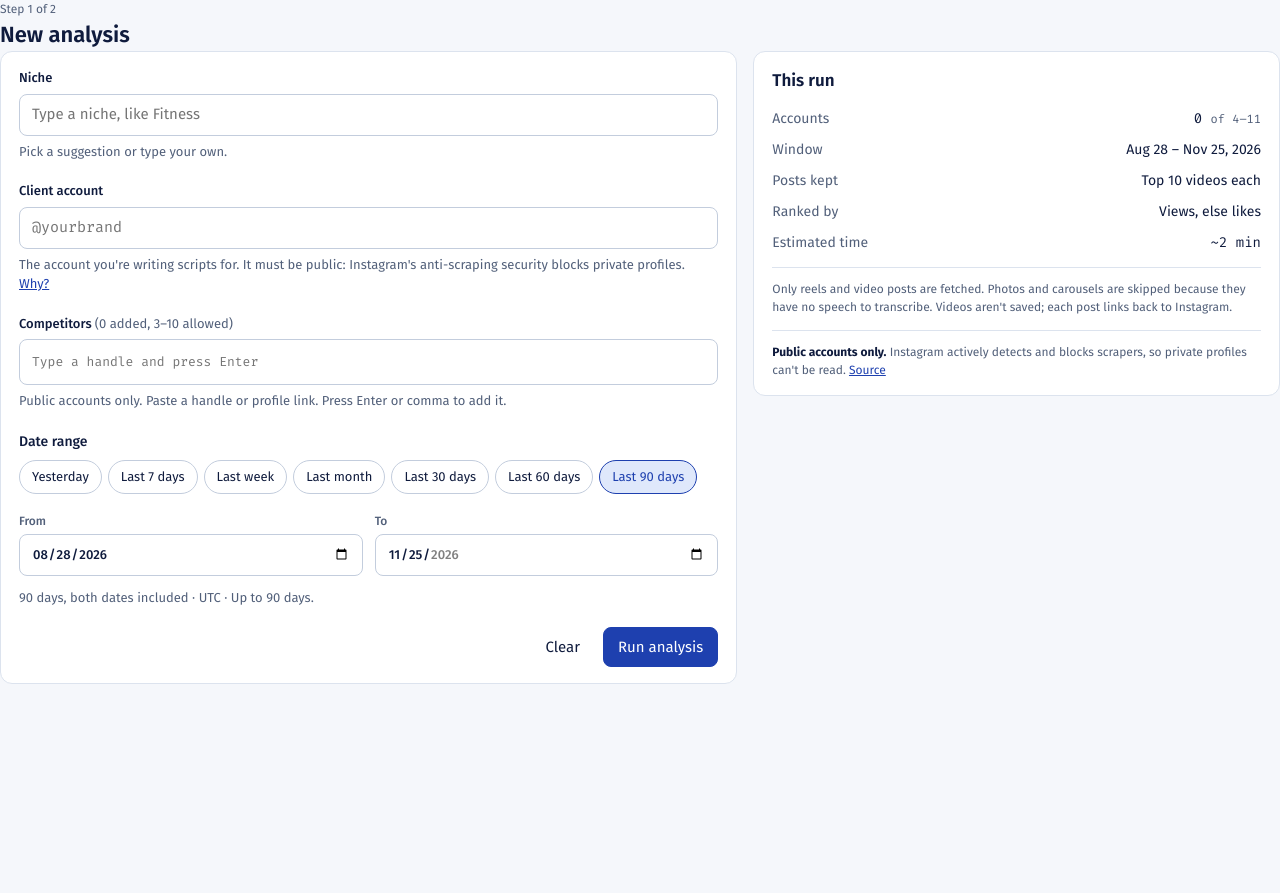
Scenario: NewRunForm › does not submit when the draft holds an invalid handle
Type "AI" into the dropdown labelled "Niche" at (369, 114), box [19,94,718,136]
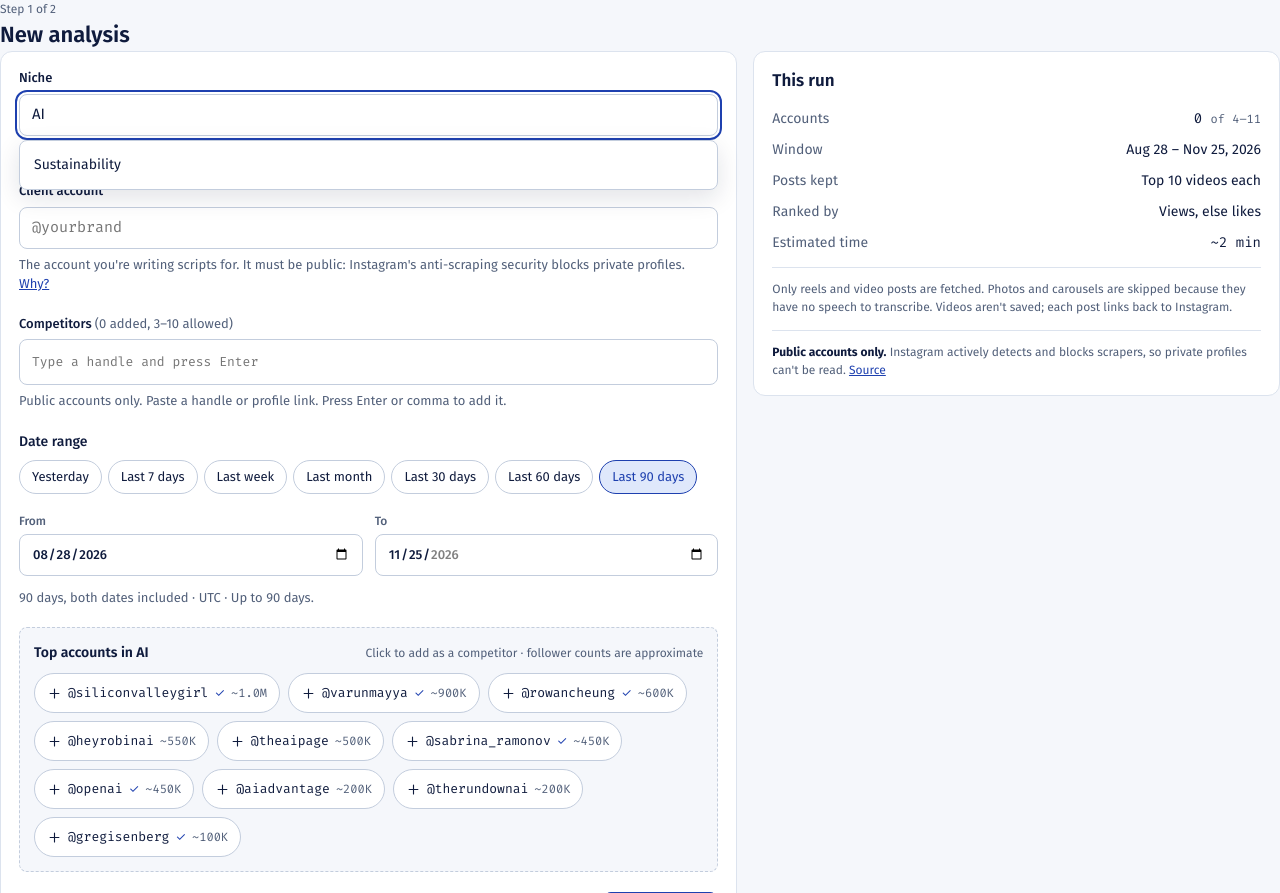
Type "me" into the field labelled "Client account" at (369, 228), box [19,206,718,248]
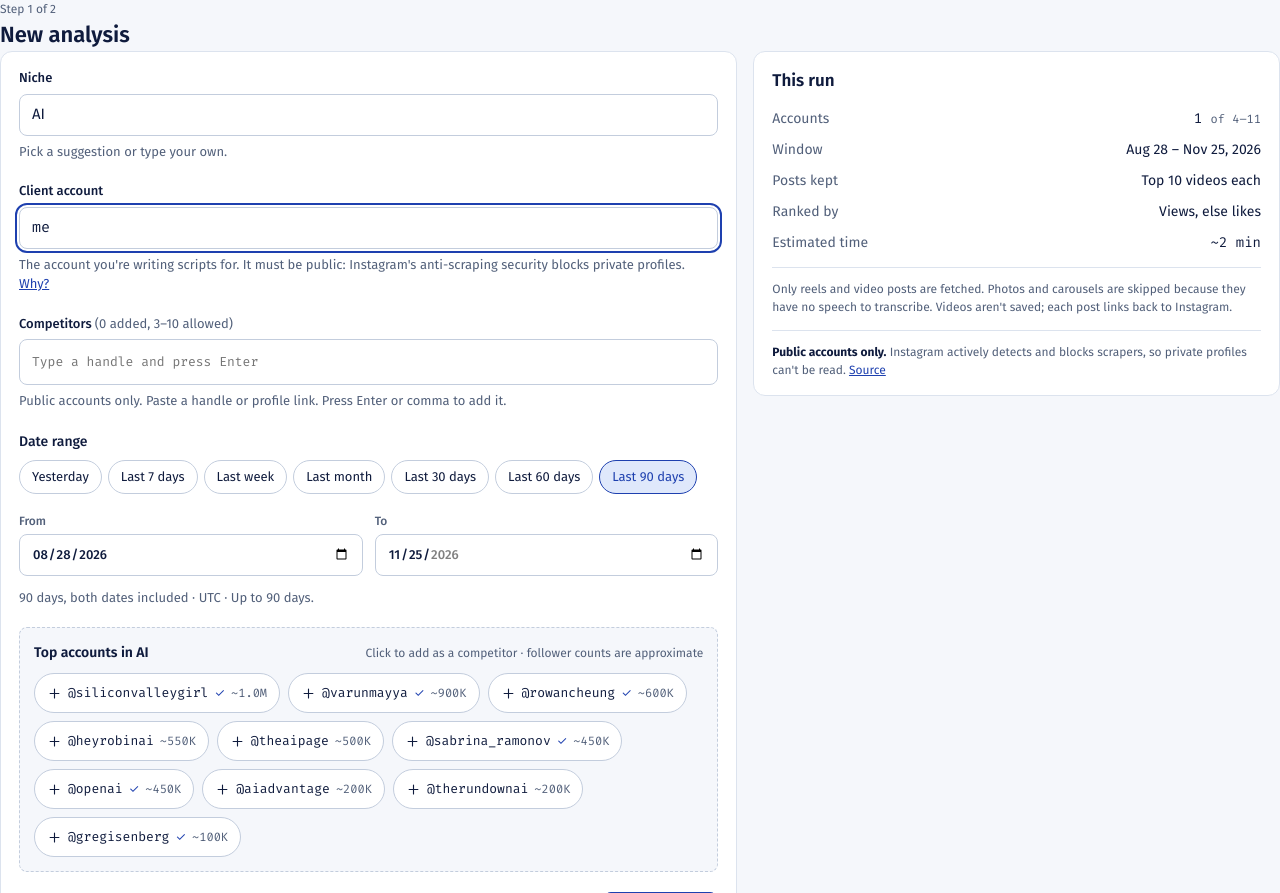
Type "a,b,c," into the field with placeholder "Type a handle and press Enter" at (369, 362), box [26,346,711,378]
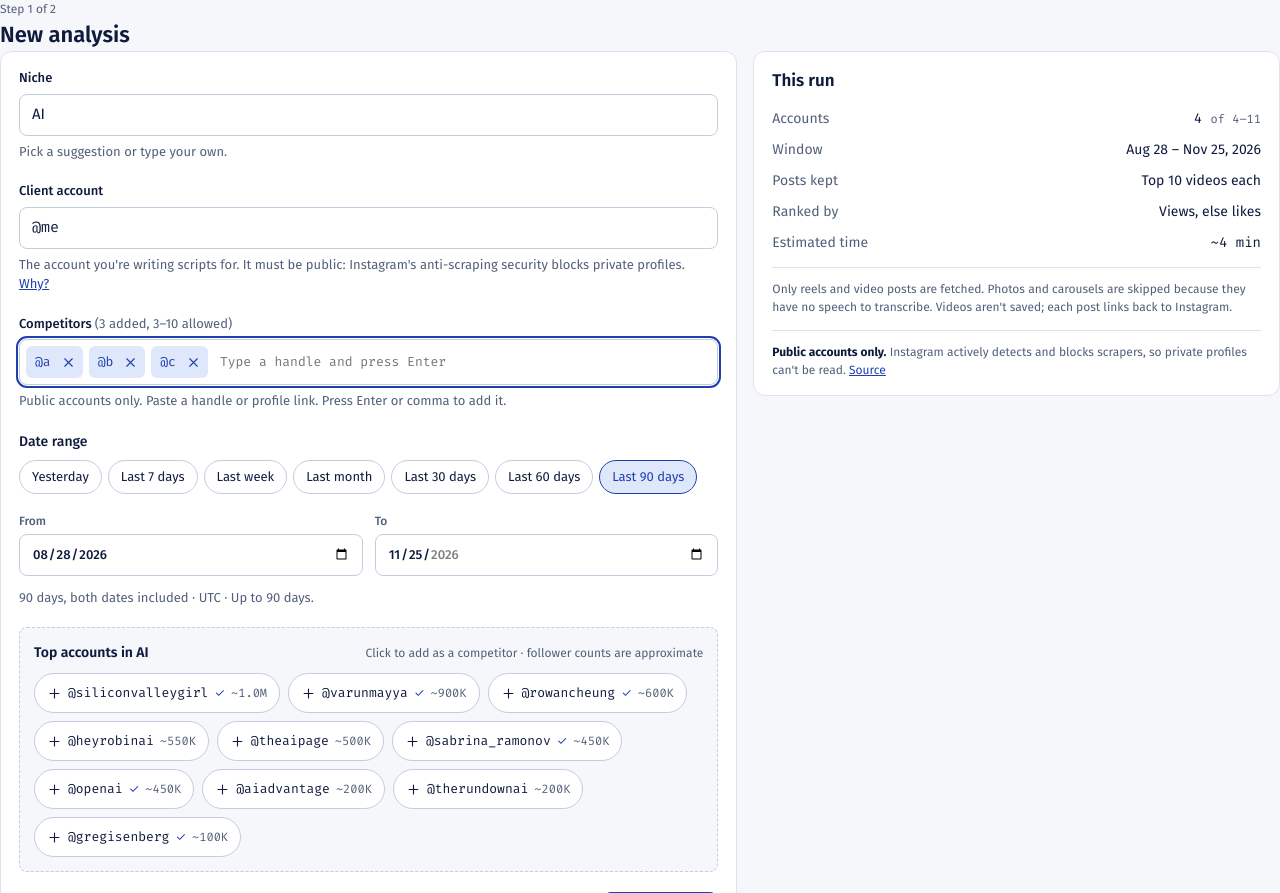
Type "me" into the field with placeholder "Type a handle and press Enter" at (463, 362), box [214,346,711,378]
(page scrolled)
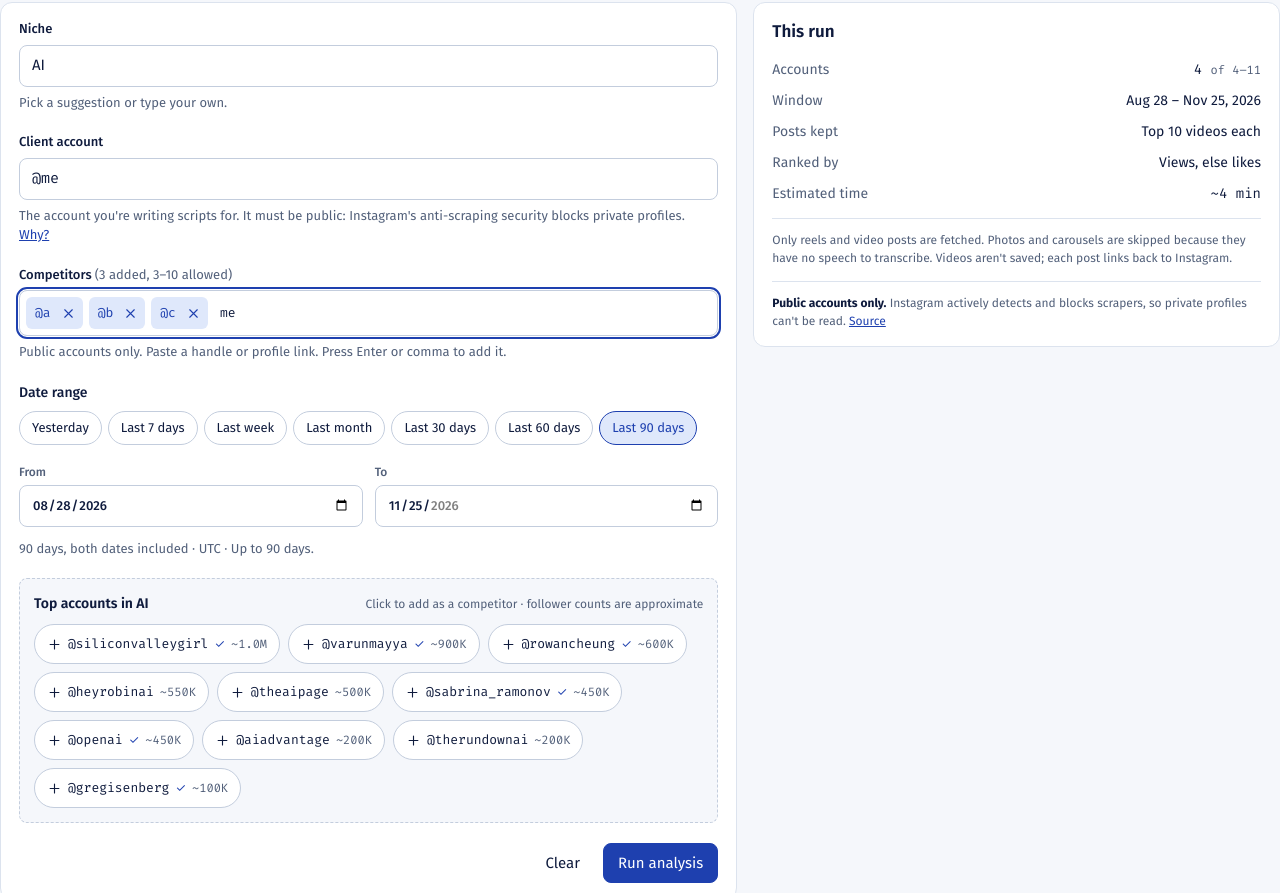
Click the button "Run analysis" at (661, 863), box [603,843,718,883]
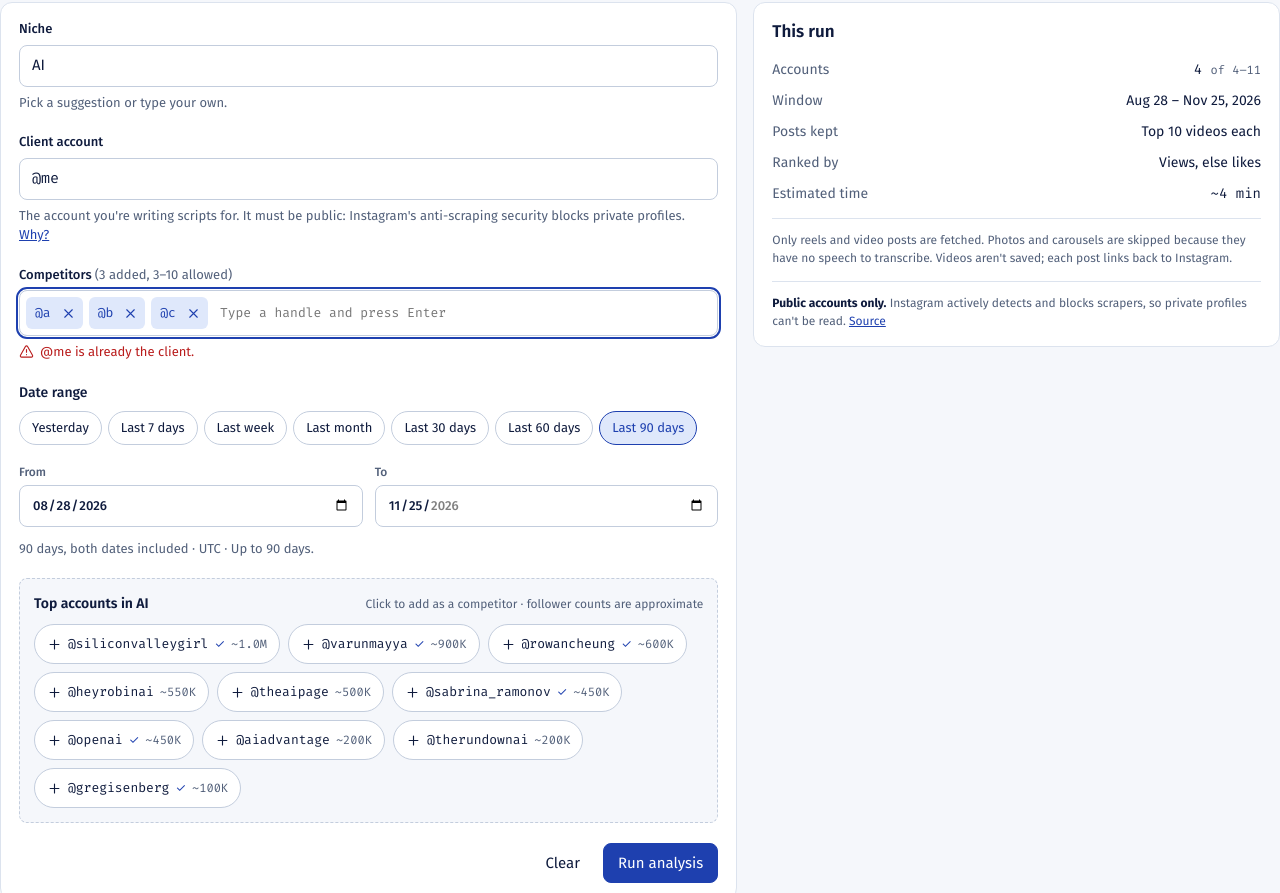
Check: the text "@me is already the client." is shown, box [19,344,194,359]
